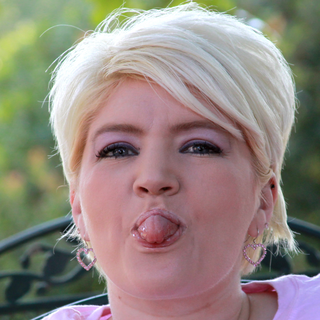eye: (174, 135, 228, 164), (92, 139, 145, 164)
